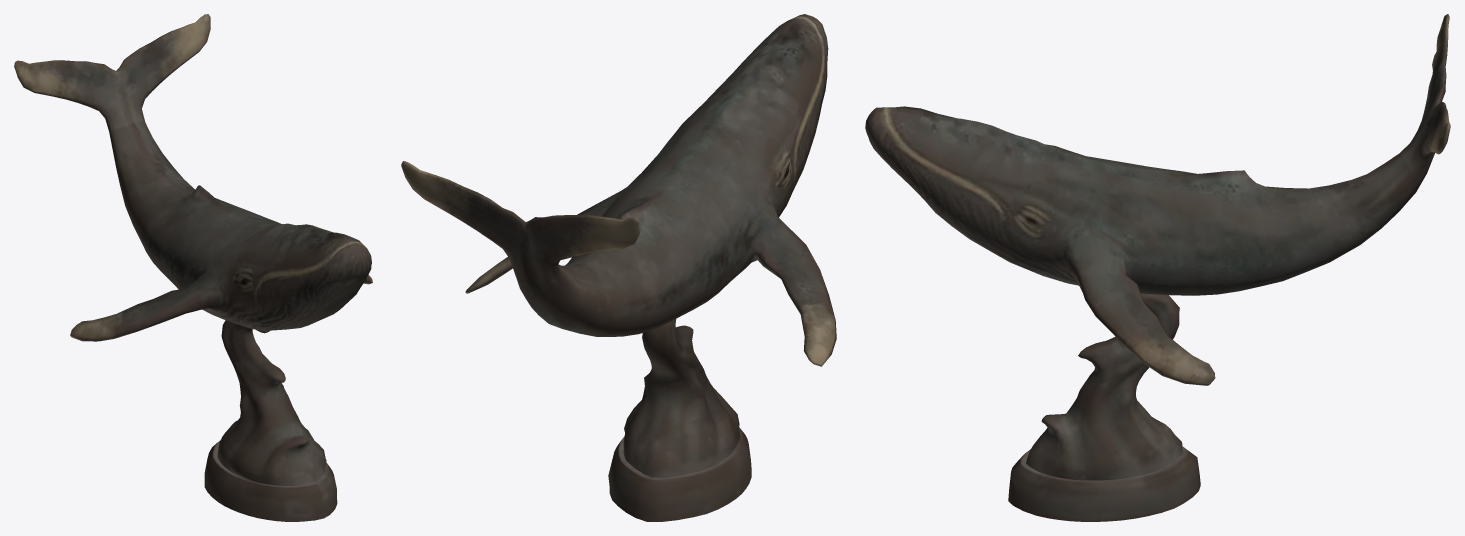
Rendered from bronze_whale_statue.glb.
3 views of the same model, side by side, from view 1: azimuth 30°, elevation 25°; view 2: azimuth 150°, elevation 25°; view 3: azimuth 270°, elevation 25° (orthographic). The views are drawn at different scales.
Visible parts, largest first — view 1: bronze_whale_statue; view 2: bronze_whale_statue; view 3: bronze_whale_statue.
Part boxes in pixels (box(x1,y1,x2,y2)): bronze_whale_statue: box(14, 14, 372, 521); bronze_whale_statue: box(401, 14, 836, 521); bronze_whale_statue: box(865, 14, 1450, 521).
Bounding box in the file's own units: 0.932 × 1.07 × 1.37.
1 material, 1 textured.
